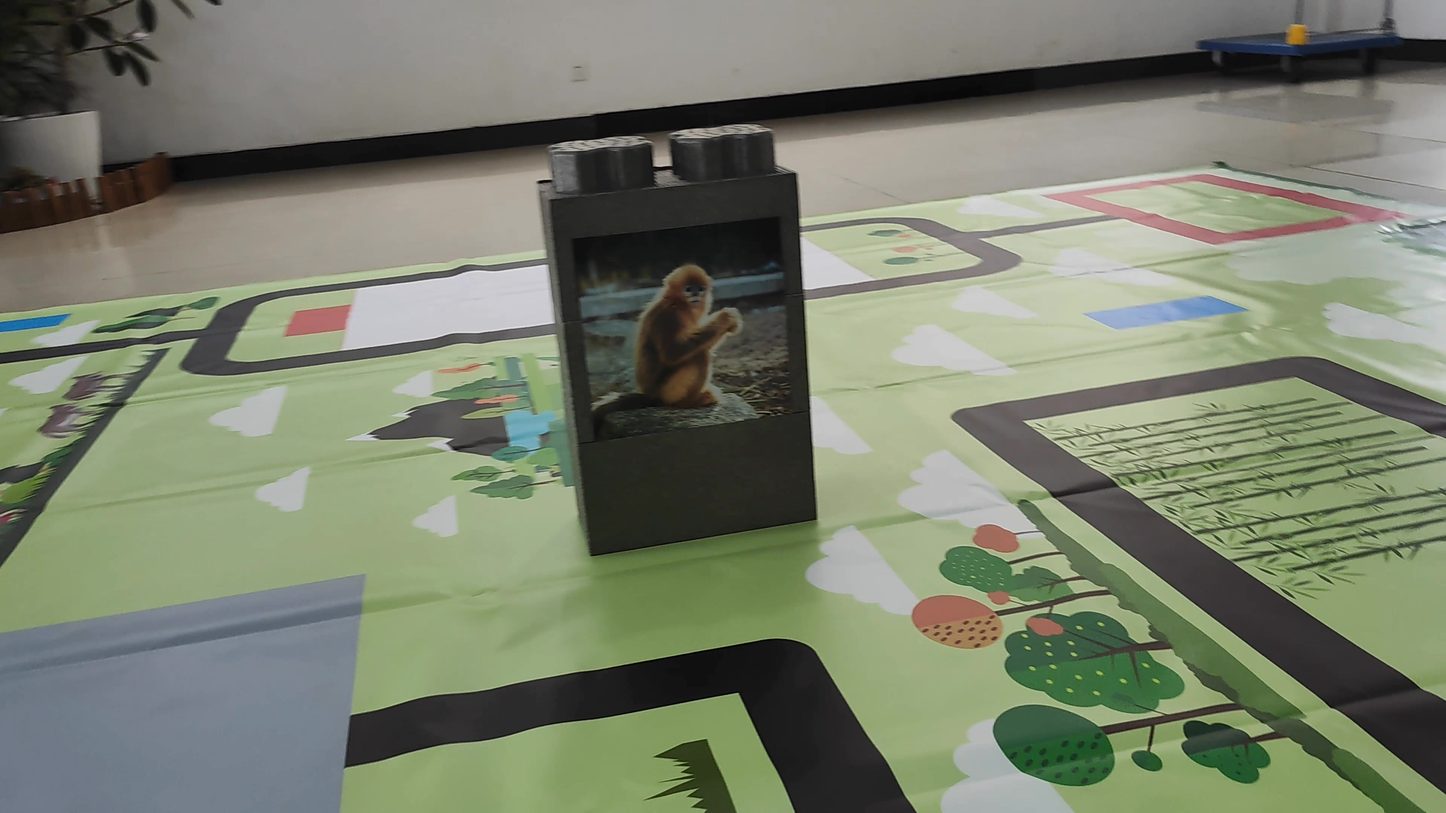monkey: (582, 245, 772, 435)
